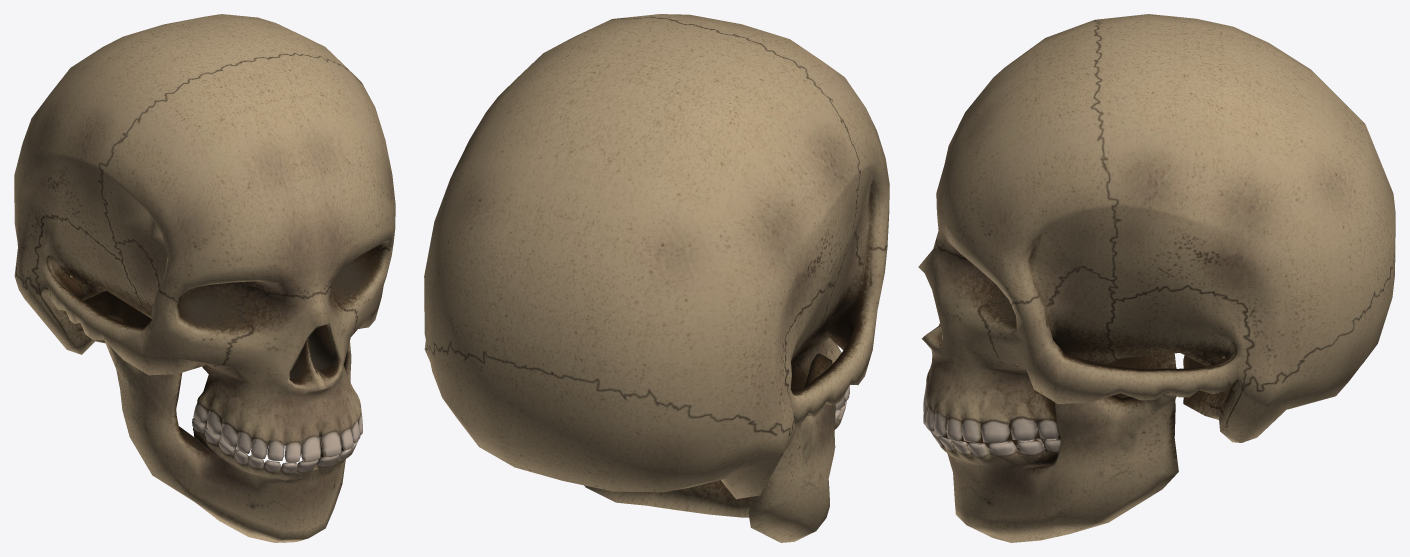
The model's file is human_skull_-_anatomical_3d_model.glb.
3 views of the same model, side by side, from view 1: azimuth 30°, elevation 25°; view 2: azimuth 150°, elevation 25°; view 3: azimuth 270°, elevation 25° (orthographic). The views are drawn at different scales.
Parts seen in each view (by area): view 1: skull_low_poly; view 2: skull_low_poly; view 3: skull_low_poly.
Boxes of the visible parts, x1,y1,x2,y2 form: skull_low_poly: (14, 14, 395, 542); skull_low_poly: (424, 14, 889, 542); skull_low_poly: (918, 14, 1395, 542).
Bounding box in the file's own units: 146 × 213 × 189.
Materials: 1 (1 with a texture image).
